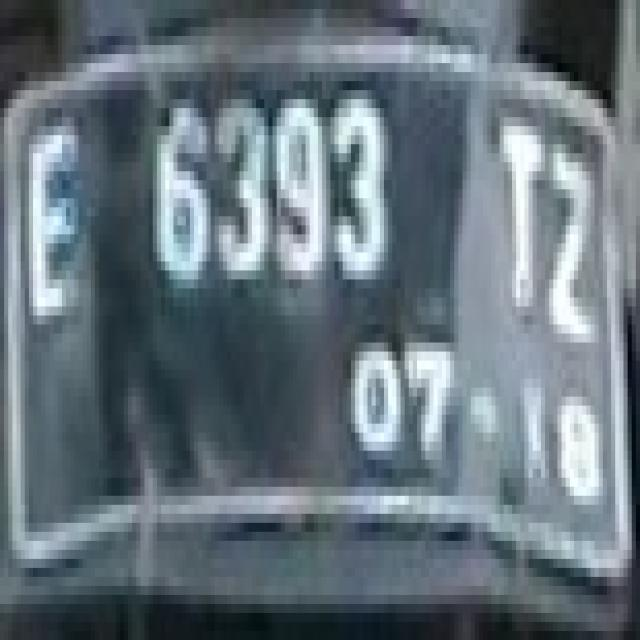plate: (0, 36, 632, 604)
